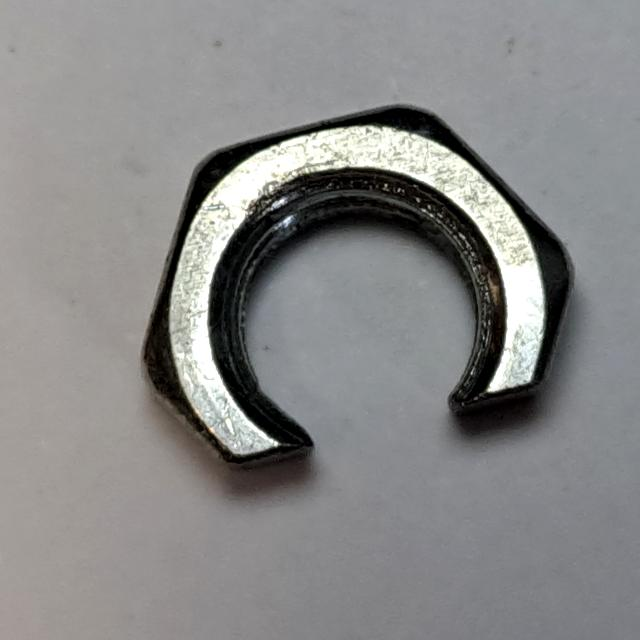Fracture: (121, 94, 583, 491)
